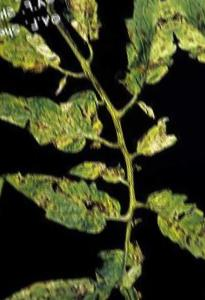Tomato Septoria leaf spot: (0, 55, 114, 176), (7, 146, 120, 251), (95, 0, 190, 107), (30, 232, 149, 300), (147, 181, 205, 285), (0, 11, 62, 93), (126, 116, 183, 163), (72, 148, 123, 194)
